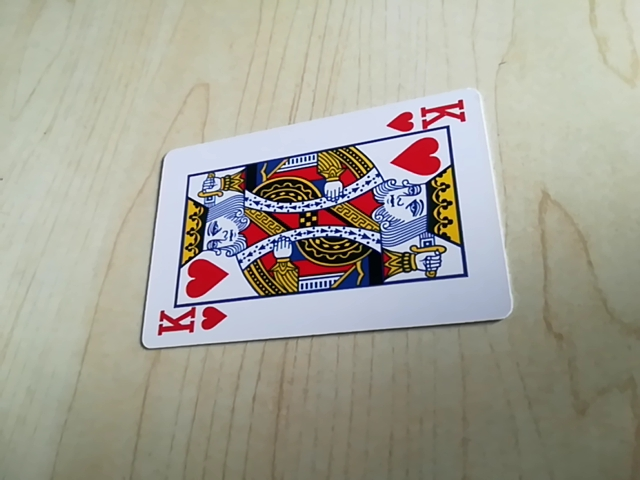hx k: (153, 301, 228, 343), (384, 100, 470, 135)
